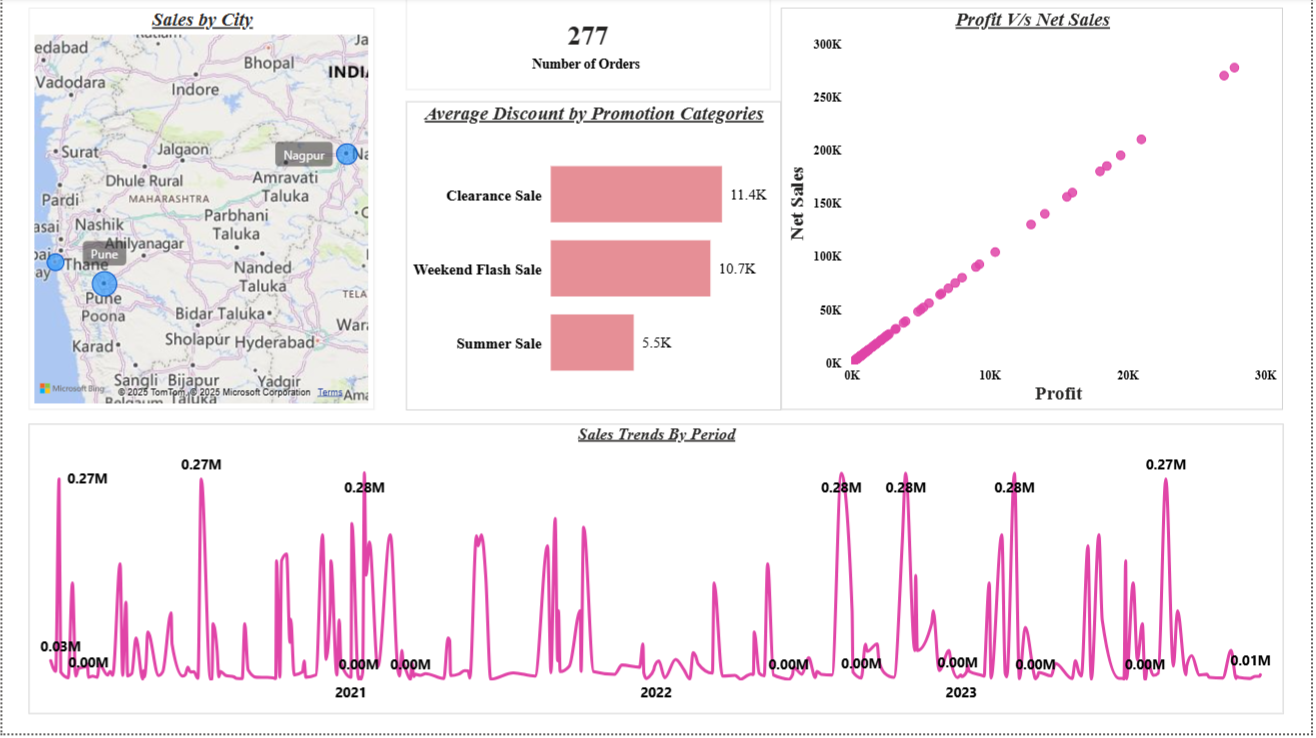

This screenshot's page, from the dashboard's own definition file:
{"tool":"powerbi","page":{"name":"Overview","canvas":[1280,720],"ordinal":0},"visuals":[{"type":"lineChart","title":"Sales Trends By Period","fields":{"Y":["Sum(Fact Table.Net Sales)"],"Category":["Fact Table.Date (dd/mm/yyyy).Variation.Date Hierarchy.Year"]},"box":[25.7,417,1227.7,283.7],"z":0},{"type":"scatterChart","title":"Profit V/s Net Sales","fields":{"X":["Fact Table.Profit"],"Y":["Fact Table.Net Sales"]},"box":[761.8,9.8,491.6,393.8],"z":1},{"type":"barChart","title":"Average Discount by Promotion Categories","fields":{"Y":["Avg(Fact Table.Discount)"],"Category":["Dim Promotion.Promotion Name"]},"box":[395,101.5,366.8,302],"z":2},{"type":"map","title":"Sales by City","fields":{"Category":["Dim Customers.City"],"Size":["Sum(Fact Table.Net Sales)"]},"box":[25.7,9.8,338.7,393.8],"z":3},{"type":"card","fields":{"Values":["Count(Fact Table.Order ID)"]},"box":[394.4,0,356.7,90],"z":4}]}

Visuals, with their boxes in screenshot pixels (x1, y1, x2, y2), scaled from the page's 1280x720 canvas onto the 1316x738 screenshot:
"Sales Trends By Period" lineChart: <region>26, 427, 1289, 718</region>
"Profit V/s Net Sales" scatterChart: <region>783, 10, 1289, 414</region>
"Average Discount by Promotion Categories" barChart: <region>406, 104, 783, 414</region>
"Sales by City" map: <region>26, 10, 375, 414</region>
card - Count(Fact Table.Order ID): <region>405, 0, 772, 92</region>
